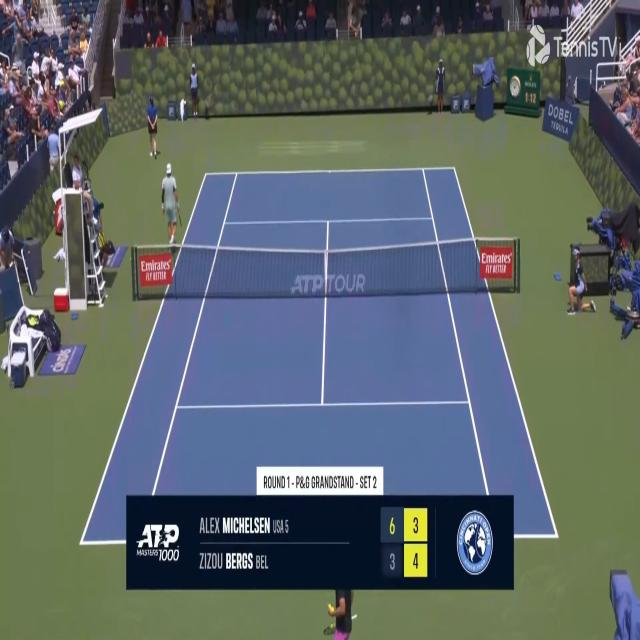tennis-player: (160, 162, 184, 252), (322, 588, 359, 640)
